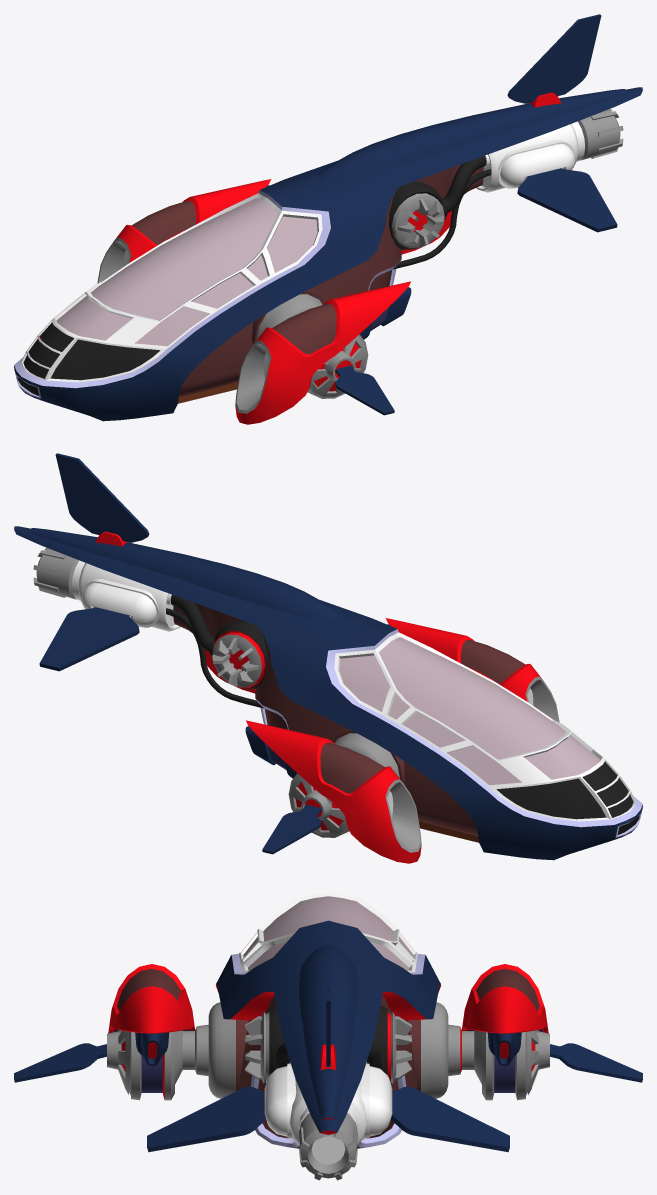
File: NewShip.obj
3 renders of one model, top to bottom at view 1: azimuth 30°, elevation 25°; view 2: azimuth 150°, elevation 25°; view 3: azimuth 270°, elevation 25°, orthographic. The views are drawn at different scales.
Visible parts, largest first — view 1: UpperChassis, WindShield, WingCovers, Tummy, WindowFrame, FrontPlates, Tank, WingPads, Lists, WingThings, WingOpenings, Flenses (+5 smaller); view 2: UpperChassis, WindShield, WingCovers, Tummy, WindowFrame, FrontPlates, Tank, WingPads, Lists, WingThings, WingOpenings, Flenses (+5 smaller); view 3: UpperChassis, WingThings, WingCovers, Tank, WindShield, Detail, Flenses, WindowFrame, Exhaust, WingPads, Tummy, WingStuff (+5 smaller).
Boxes of the visible parts, x1,y1,x2,y2 form: UpperChassis: (14, 14, 642, 421); WindShield: (56, 198, 317, 346); WingCovers: (115, 179, 410, 424); Tummy: (178, 164, 483, 396); WindowFrame: (21, 193, 322, 382); FrontPlates: (17, 322, 159, 395); Tank: (476, 121, 585, 192); WingPads: (132, 201, 336, 354); Lists: (14, 190, 400, 398); WingThings: (257, 294, 368, 398); WingOpenings: (97, 237, 271, 413); Flenses: (392, 193, 444, 248); UpperChassis: (14, 453, 642, 860); WindShield: (339, 637, 600, 785); WingCovers: (246, 618, 541, 863); Tummy: (173, 603, 478, 835); WindowFrame: (334, 632, 635, 821); FrontPlates: (497, 761, 639, 834); Tank: (71, 560, 180, 631); WingPads: (320, 640, 524, 793); Lists: (256, 629, 642, 837); WingThings: (288, 733, 399, 837); WingOpenings: (385, 676, 559, 852); Flenses: (212, 634, 261, 687); UpperChassis: (14, 920, 642, 1152); WingThings: (107, 1002, 549, 1100); WingCovers: (108, 964, 548, 1033); Tank: (264, 1061, 392, 1146); WindShield: (243, 896, 413, 970); Detail: (121, 984, 535, 1134); Flenses: (245, 1012, 411, 1083); WindowFrame: (239, 892, 417, 972); Exhaust: (299, 1113, 357, 1180); WingPads: (117, 968, 539, 1011); Tummy: (236, 996, 420, 1148); WingStuff: (114, 1029, 542, 1065).
Size of the model in its own units: 32.94 by 13.46 by 22.94.
